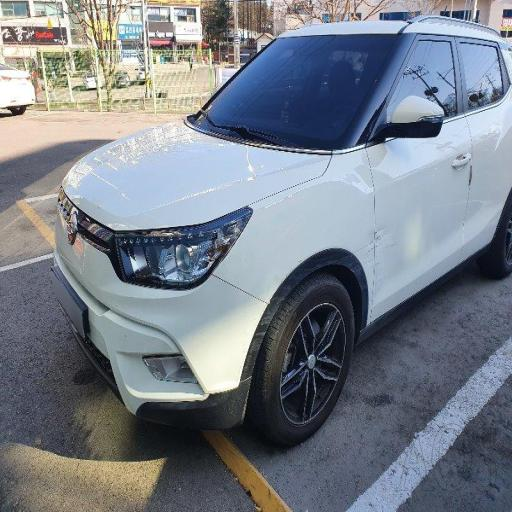dent: (318, 146, 408, 212)
